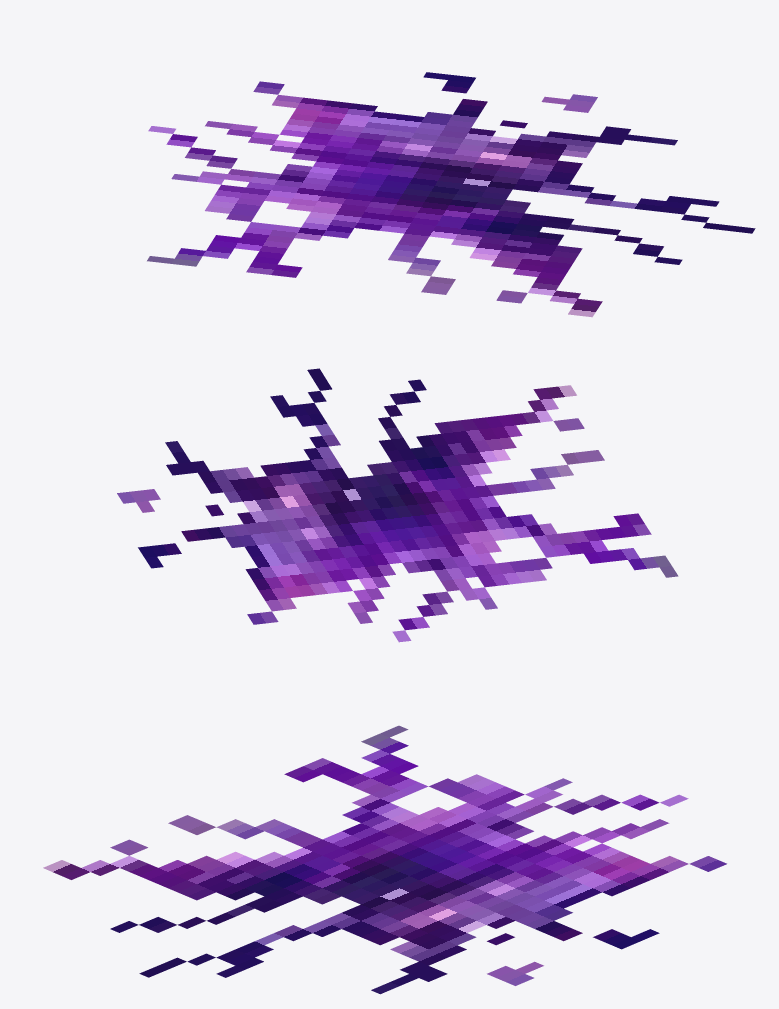
The model's file is HiddenStash.glb.
3 views of the same model, one above another, from view 1: azimuth 30°, elevation 25°; view 2: azimuth 150°, elevation 25°; view 3: azimuth 270°, elevation 25° (orthographic). The views are drawn at different scales.
Parts seen in each view (by area): view 1: 2DBG_RewardBoxes_HiddenStash_F; view 2: 2DBG_RewardBoxes_HiddenStash_F; view 3: 2DBG_RewardBoxes_HiddenStash_F.
Part boxes in pixels (left/top/right/bottom): 2DBG_RewardBoxes_HiddenStash_F: left=147, top=72, right=755, bottom=317; 2DBG_RewardBoxes_HiddenStash_F: left=117, top=368, right=678, bottom=642; 2DBG_RewardBoxes_HiddenStash_F: left=43, top=725, right=726, bottom=994.
Size of the model in its own units: 0.5312 by 0 by 0.592.
1 material, 1 textured.
